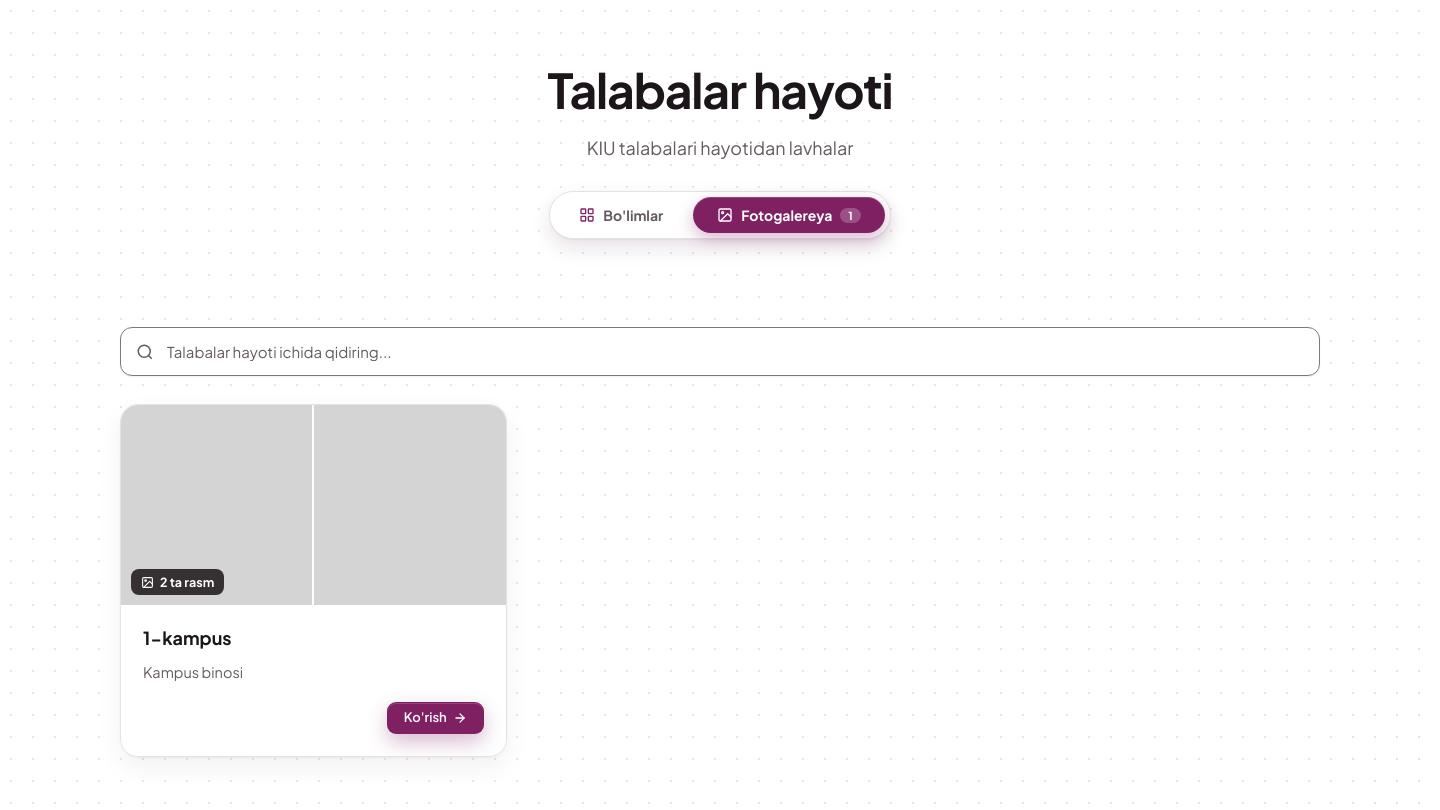
Gallery (public): fotogalereya › lightbox yopish tugmasi bilan yopiladi
Expected: the heading "1-kampus" is shown, [143,626,232,649]
Click the element showing "2 ta rasm 1-kampus Kampus binosi Ko'rish": (313, 581) [120,404,507,757]
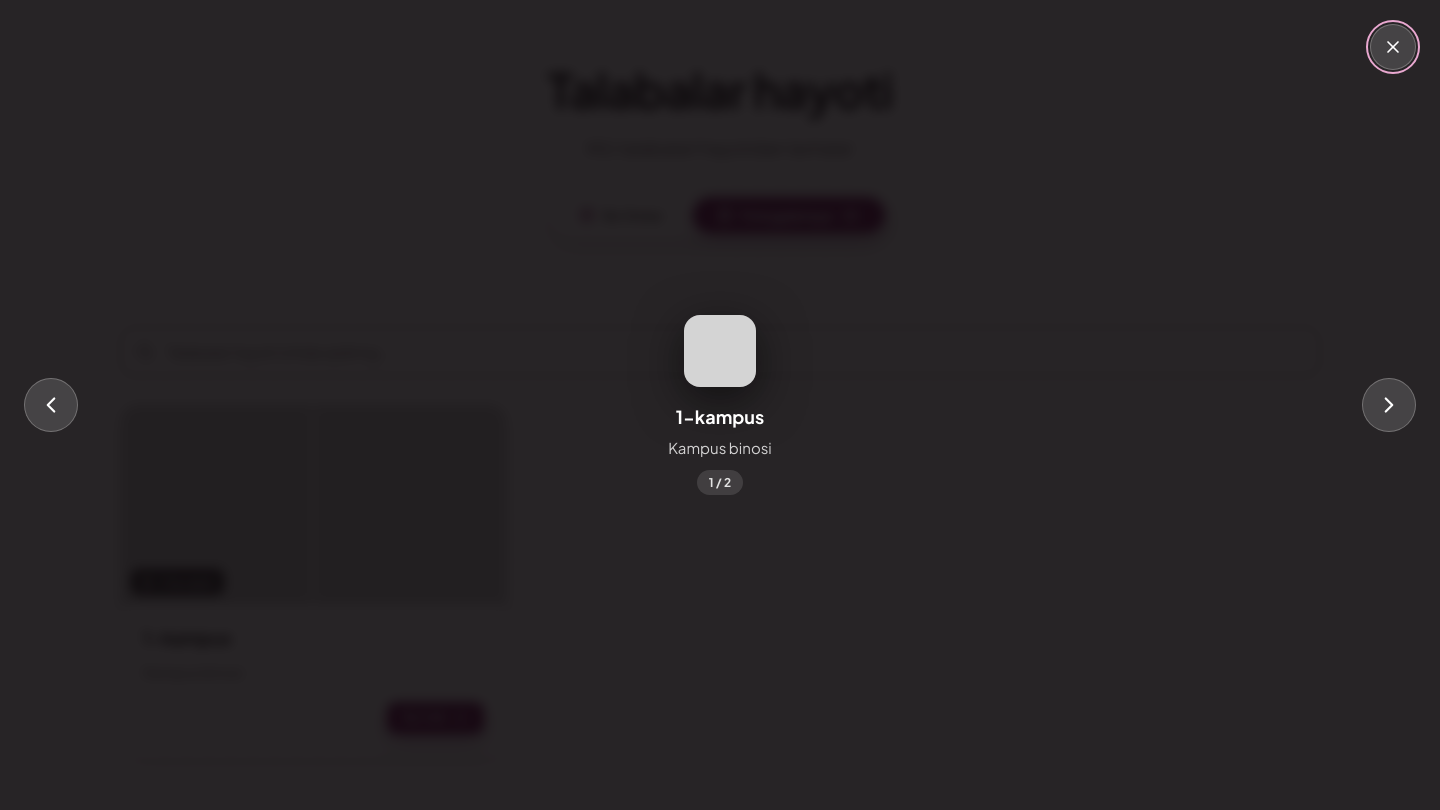
Click the button named "Yopish": (1393, 47) [1370,24,1416,70]
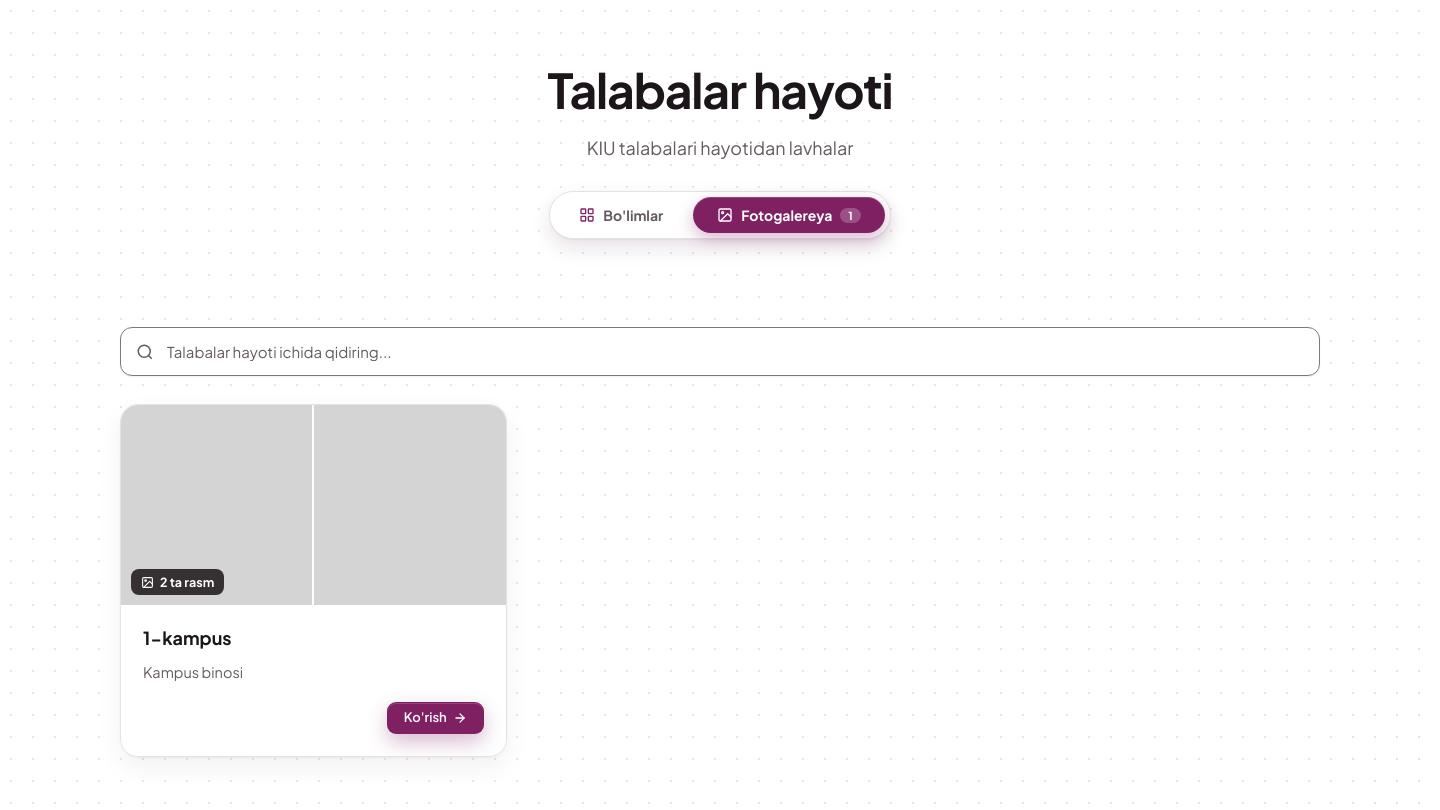
Now the dialog is gone
